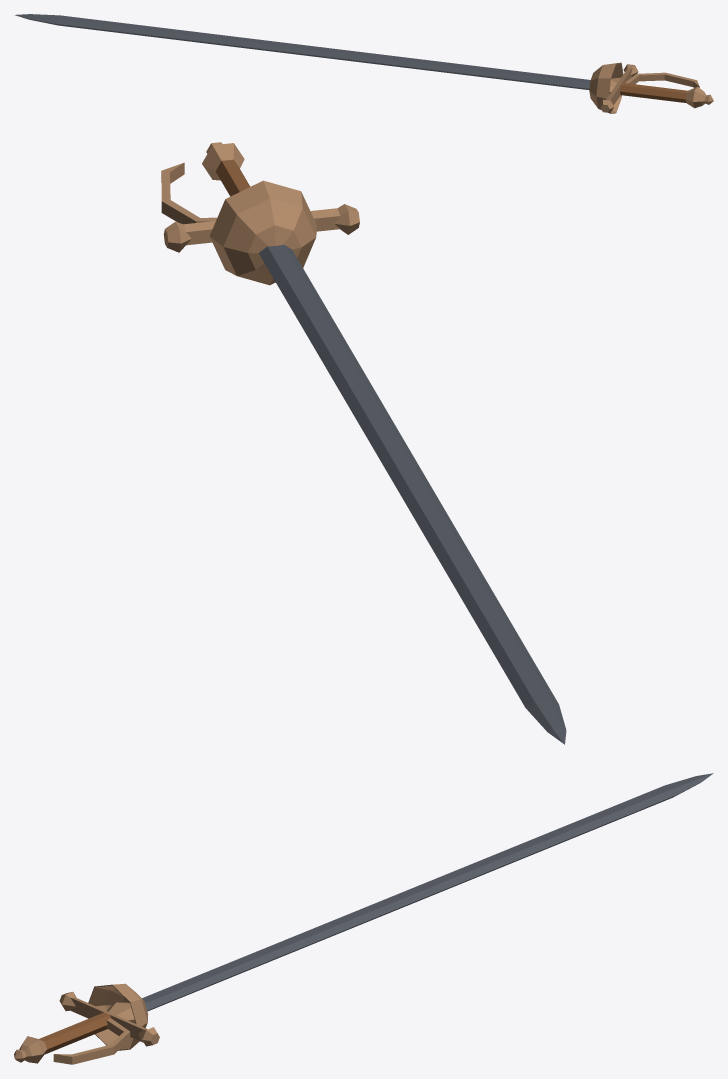
Rendered from Rapier.fbx.
3 renders of one model, top to bottom at view 1: azimuth 30°, elevation 25°; view 2: azimuth 150°, elevation 25°; view 3: azimuth 270°, elevation 25°, orthographic. The views are drawn at different scales.
Parts seen in each view (by area): view 1: Rapier; view 2: Rapier; view 3: Rapier.
Part boxes in pixels (x1=…): Rapier: x1=15, y1=14, x2=713, y2=113; Rapier: x1=161, y1=142, x2=566, y2=744; Rapier: x1=14, y1=773, x2=713, y2=1064.
Bounding box in the file's own units: 1.15 × 1.19 × 0.125.
